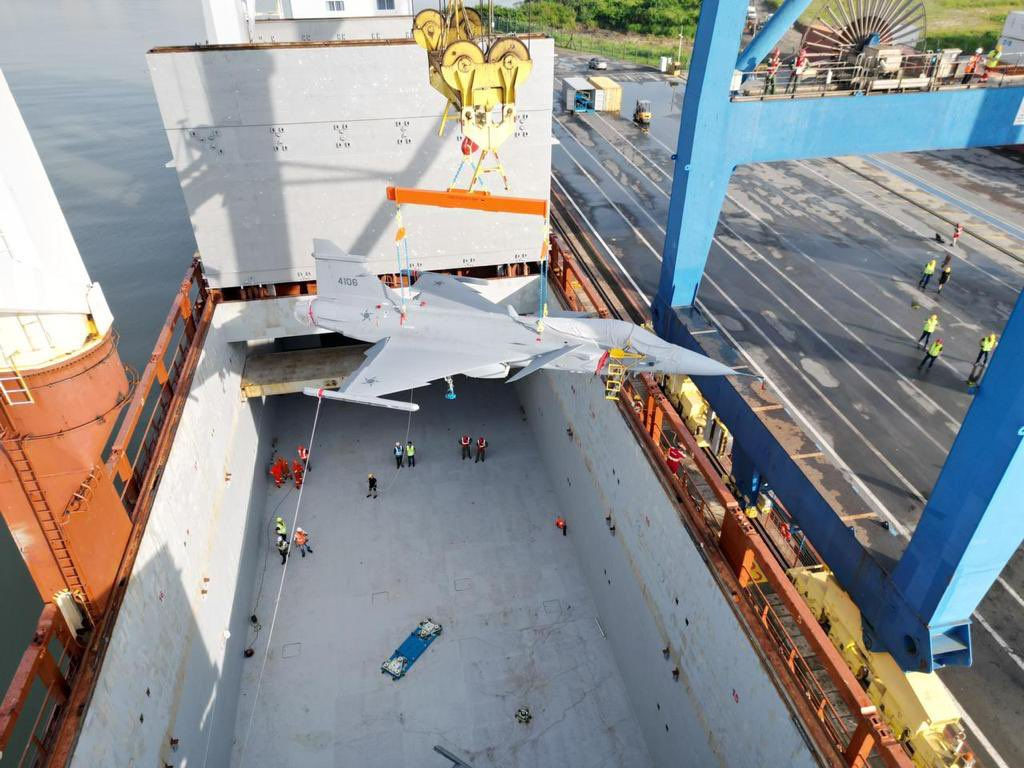JAS39: (293, 237, 765, 412)
